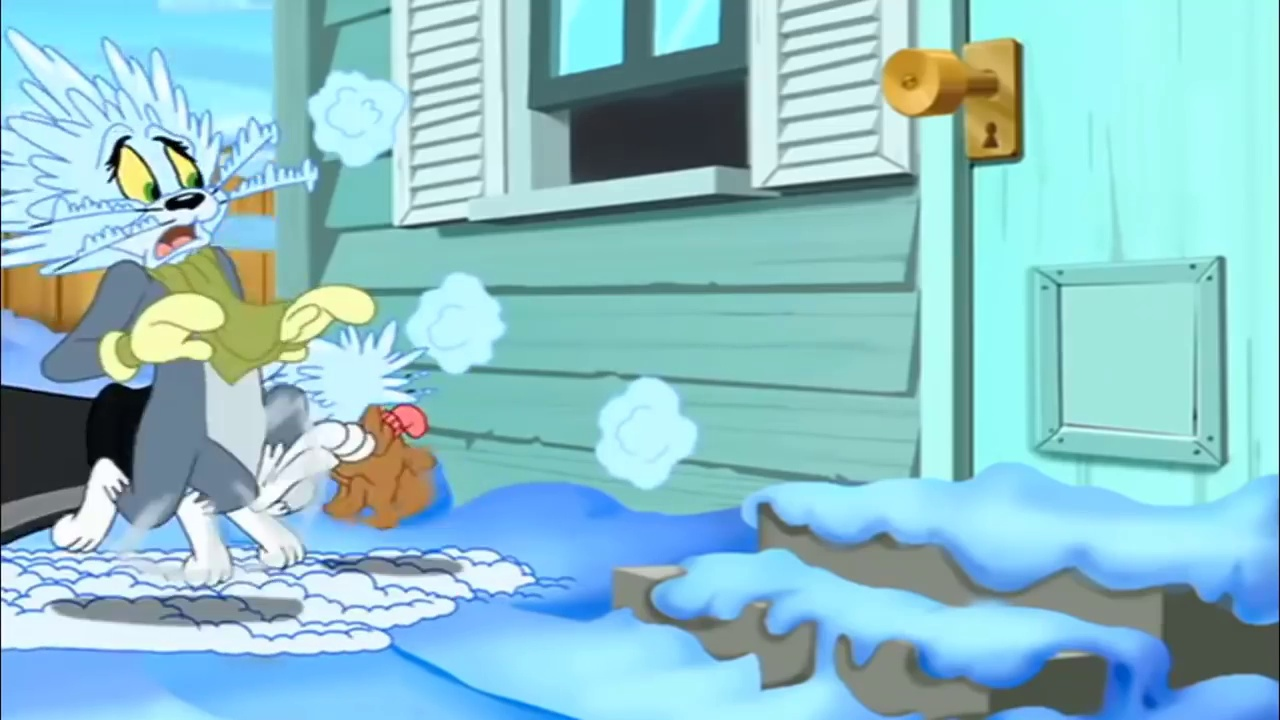face: (98, 129, 238, 270)
